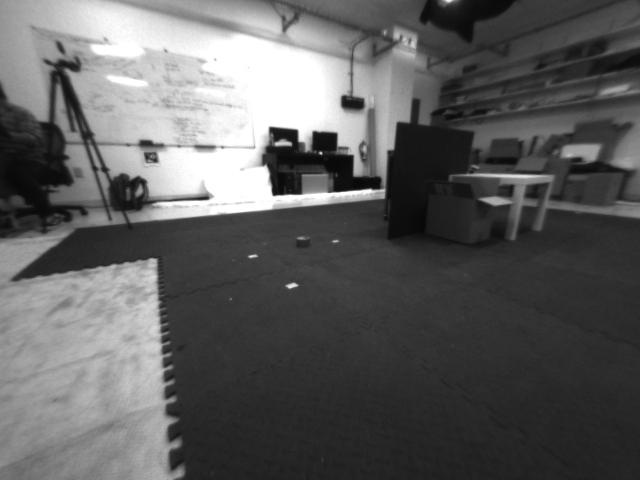dogtoy: (284, 227, 318, 254)
